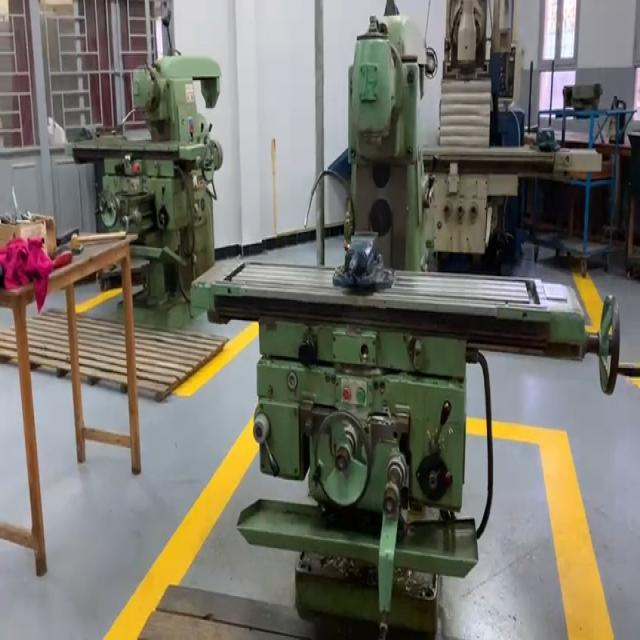fraiseuse: (192, 18, 619, 632)
